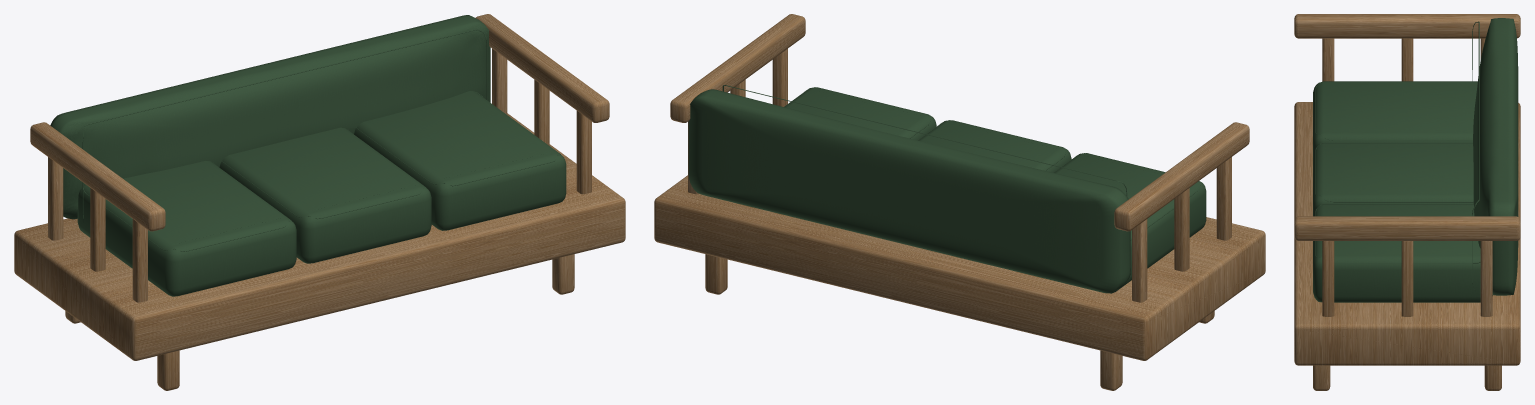
Rendered from slat-day-sofa.glb.
3 renders of one model, left to right at view 1: azimuth 30°, elevation 25°; view 2: azimuth 150°, elevation 25°; view 3: azimuth 270°, elevation 25°, orthographic. The views are drawn at different scales.
Parts seen in each view (by area): view 1: catalog_surface_UVMap, catalog_surface_RealismUV; view 2: catalog_surface_UVMap, catalog_surface_RealismUV; view 3: catalog_surface_UVMap, catalog_surface_RealismUV.
Part boxes in pixels (bbox=[...]): catalog_surface_UVMap: bbox=[14, 14, 625, 390]; catalog_surface_RealismUV: bbox=[82, 29, 560, 251]; catalog_surface_UVMap: bbox=[654, 14, 1265, 390]; catalog_surface_RealismUV: bbox=[722, 85, 1200, 240]; catalog_surface_UVMap: bbox=[1294, 14, 1520, 390]; catalog_surface_RealismUV: bbox=[1315, 21, 1480, 291].
Bounding box in the file's own units: 2 × 0.78 × 0.85.
4 materials, 2 textured.
